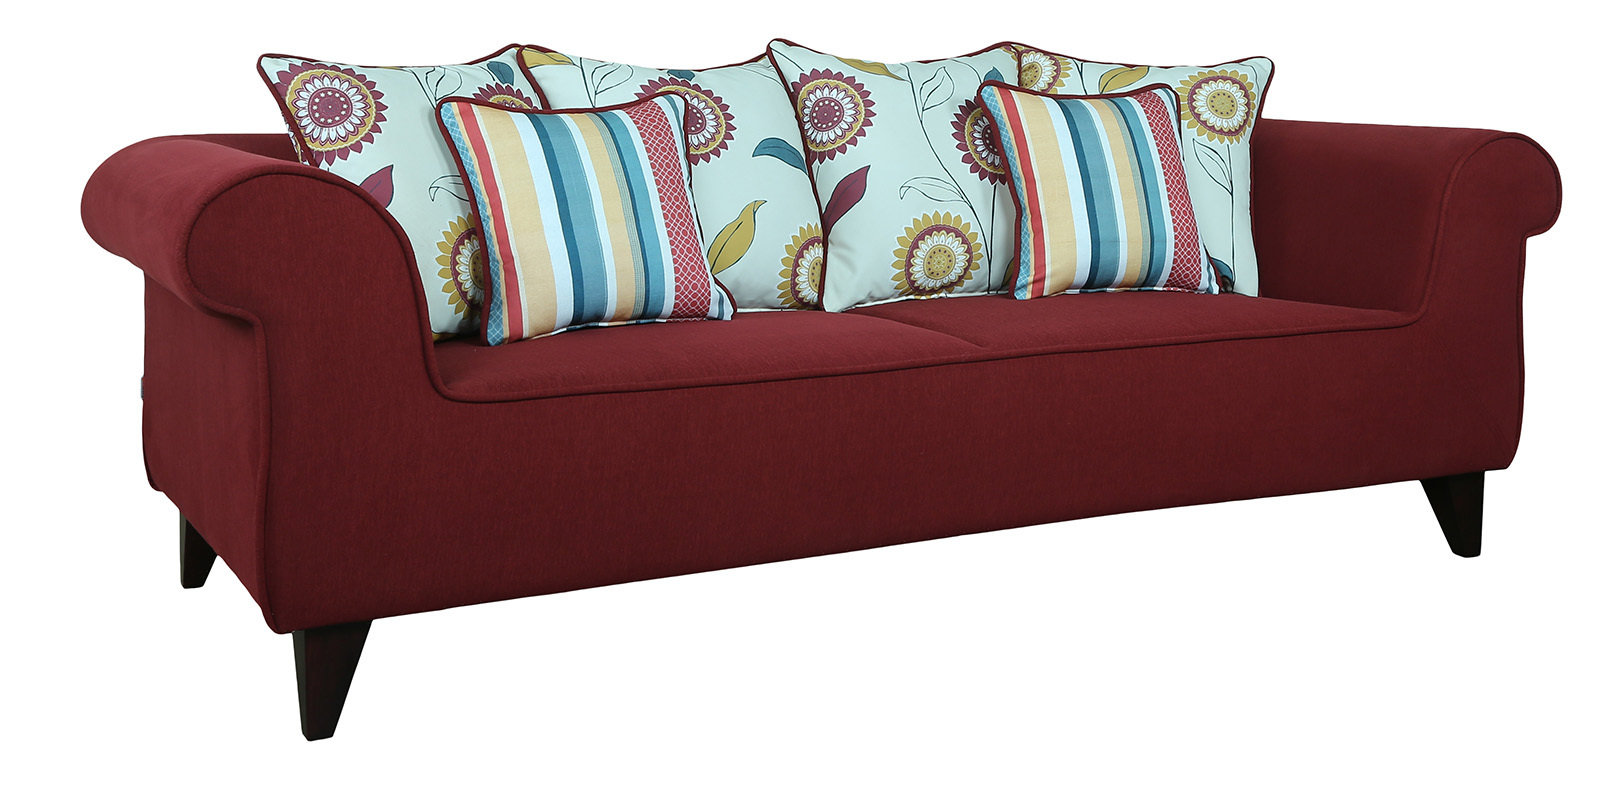Cielo Three Seater Sofa in Garnet Red Colour by CasaCraft: (77, 16, 1600, 616)
